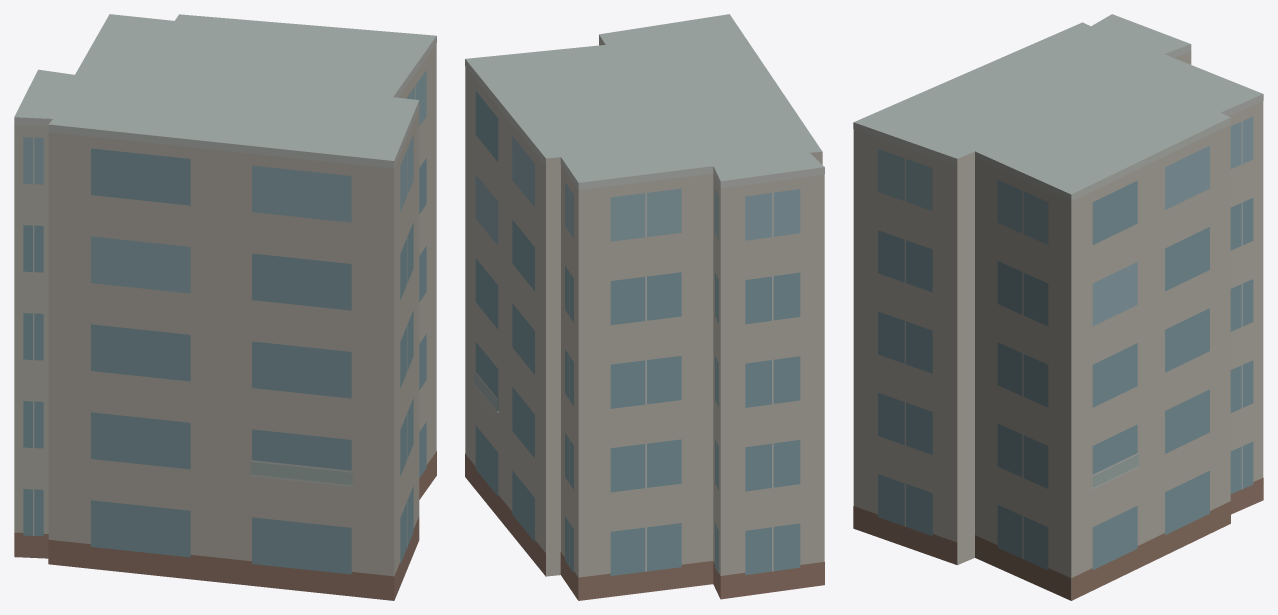
The model's file is survey-upis-32755534.glb.
3 views of the same model, side by side, from view 1: azimuth 30°, elevation 25°; view 2: azimuth 150°, elevation 25°; view 3: azimuth 270°, elevation 25° (orthographic). The views are drawn at different scales.
Parts seen in each view (by area): view 1: survey-upis-32755534.tmp; view 2: survey-upis-32755534.tmp; view 3: survey-upis-32755534.tmp.
Boxes of the visible parts, x1,y1,x2,y2 form: survey-upis-32755534.tmp: [14, 14, 436, 600]; survey-upis-32755534.tmp: [465, 14, 824, 600]; survey-upis-32755534.tmp: [853, 14, 1263, 600].
Size of the model in its own units: 13.35 by 14 by 12.81.
